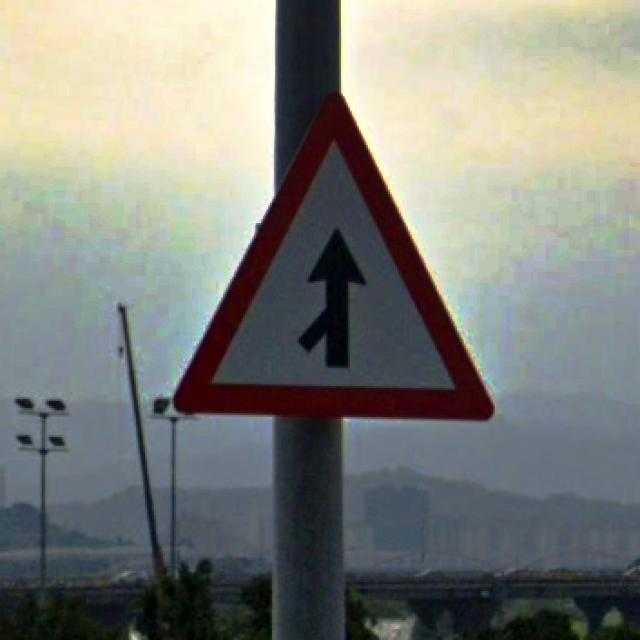leftmerge: (174, 92, 495, 422)
